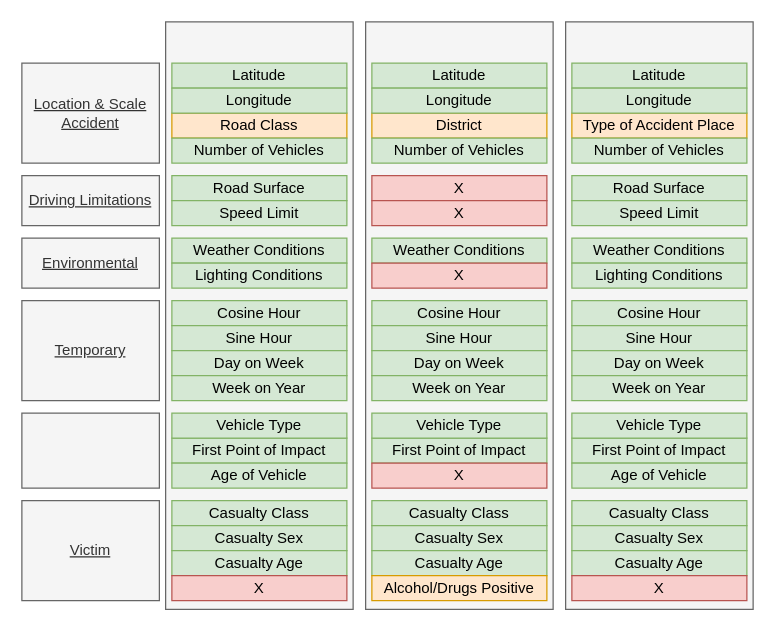
Image size: 775x631. Some labels were removed from this diagram. The shapes that lost their labels are listed below. From the top down, each one's box as (x1, y1, x2, y2) in pixels, then its label:
(164, 21, 353, 609): UK
(364, 21, 553, 609): Madrid
(564, 21, 753, 609): Victoria
(21, 412, 159, 488): Vehicle
